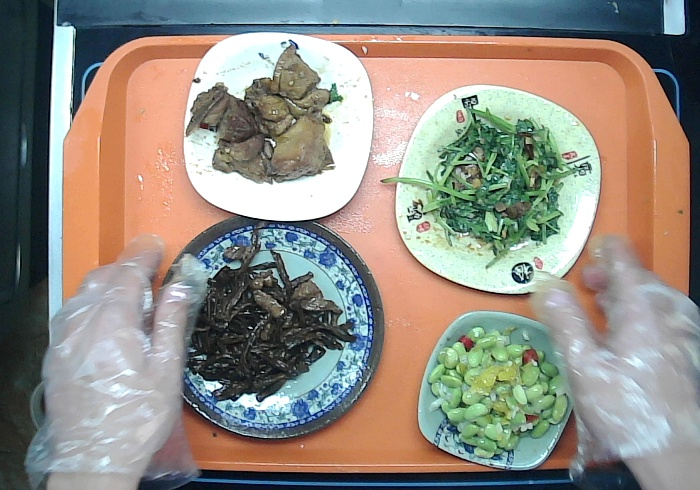NLDX-Bai_Se_Xiao_Fang_Die: (179, 26, 378, 225)
NLDX-Fu_Zi_Fang_Die: (390, 79, 606, 298)
NLDX-Qing_Hua_Xiao_Fang_Die: (415, 305, 574, 475)
NLDX-Qing_Hua_Yuan_Die: (149, 215, 386, 444)
